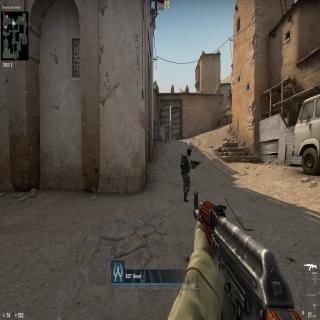CT-Head: (186, 147, 192, 157)
